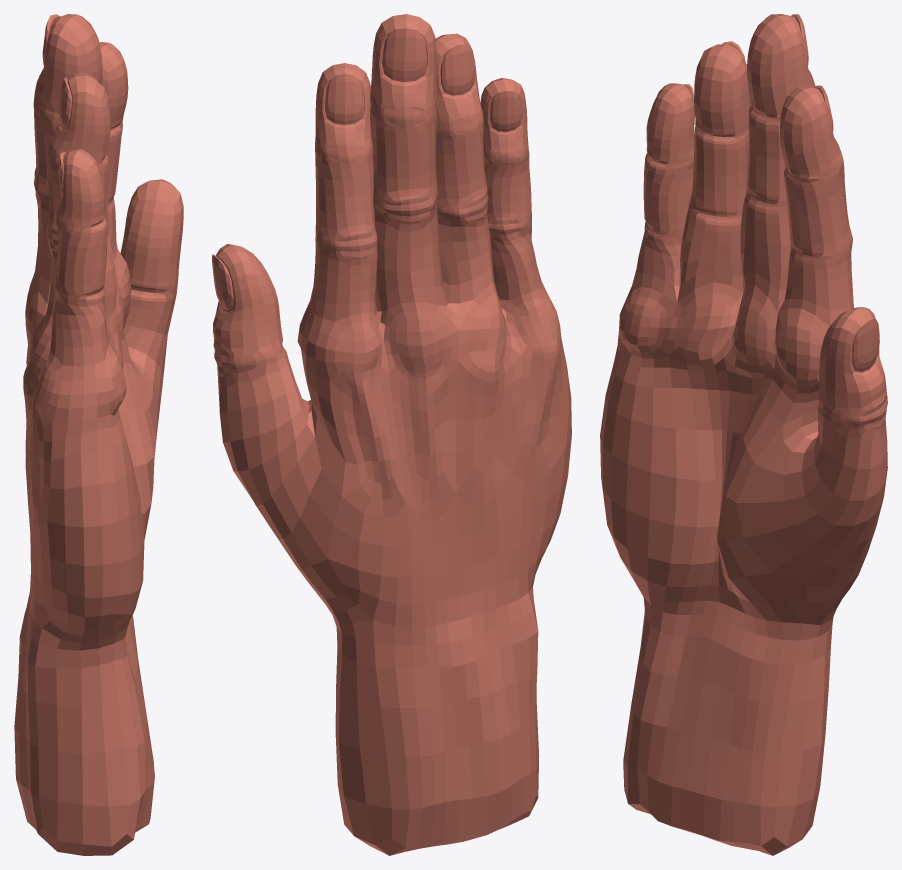
3 renders of one model, left to right at view 1: azimuth 30°, elevation 25°; view 2: azimuth 150°, elevation 25°; view 3: azimuth 270°, elevation 25°, orthographic. The views are drawn at different scales.
Visible parts, largest first — view 1: ZBrushPolyMesh3D; view 2: ZBrushPolyMesh3D; view 3: ZBrushPolyMesh3D.
Part boxes in pixels (box(x1,y1,x2,y2)): ZBrushPolyMesh3D: box(14, 14, 183, 855); ZBrushPolyMesh3D: box(212, 14, 571, 855); ZBrushPolyMesh3D: box(600, 14, 887, 855).
Bounding box in the file's own units: 1.67 × 5.42 × 1.73.
